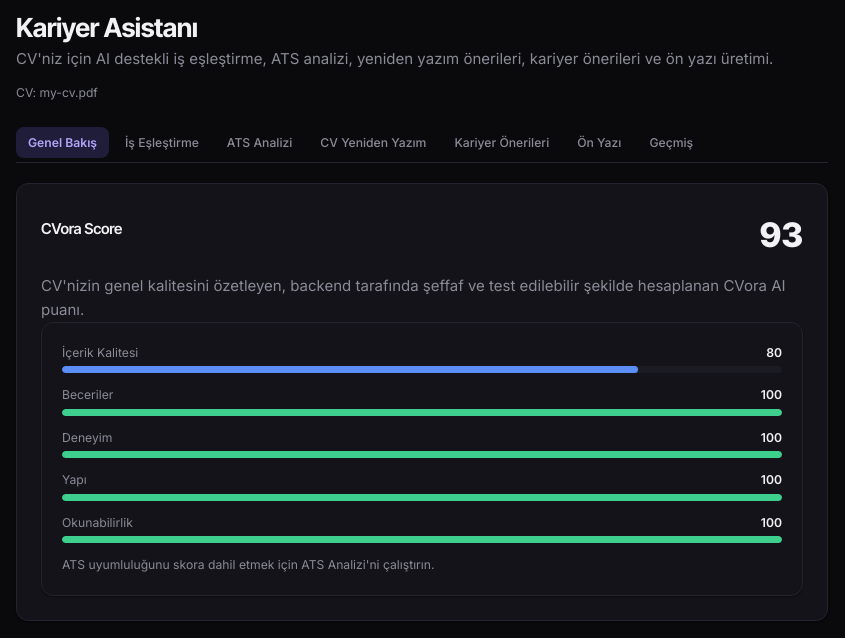
Scenario: CareerAssistantPage › shows a Premium upgrade notice instead of a raw error when the backend returns PREMIUM_FEATURE_REQUIRED
This screenshot has width=845, height=638.
Expected: the text "CV: my-cv.pdf" is shown, [16,85,98,100]
Click the tab "ATS Analizi": (260, 142) [215,127,304,158]
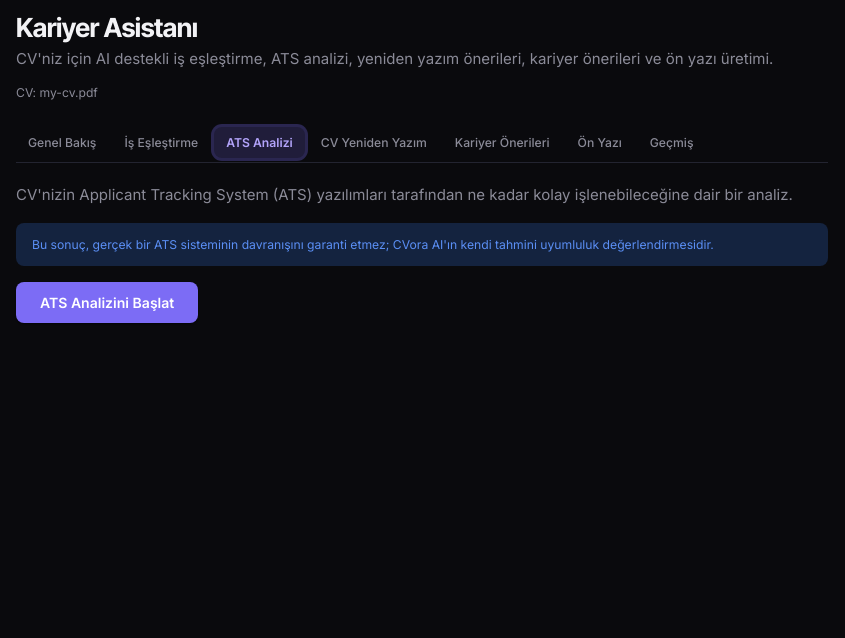
Click the button "ATS Analizini Başlat": (107, 303) [16,282,198,323]
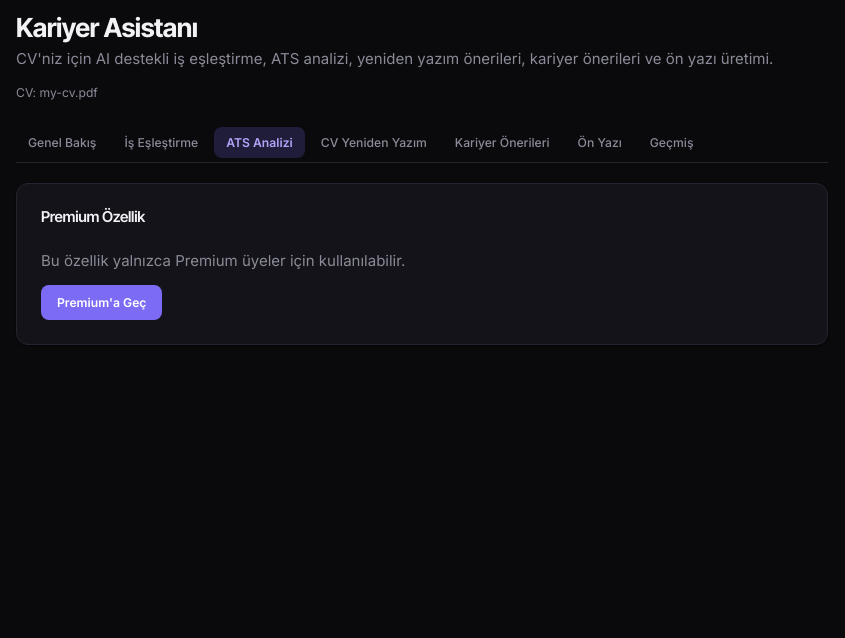
Expected: the heading "Premium Özellik" is shown, [41,208,145,225]
